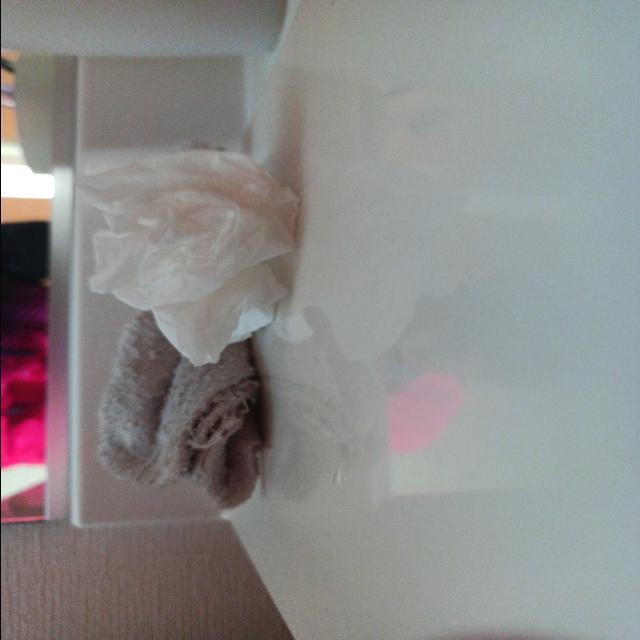Paper: (63, 156, 306, 353)
